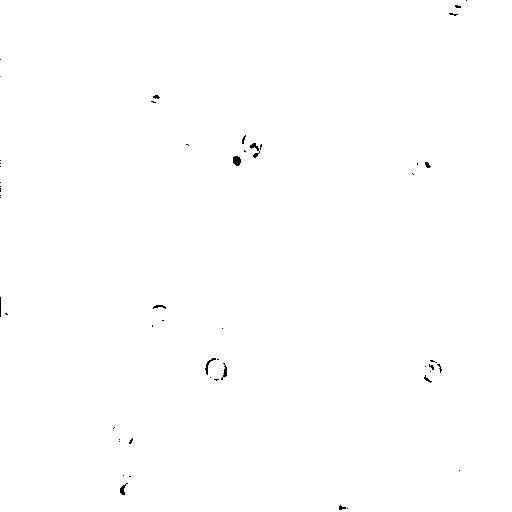micro-algae: (77, 14, 128, 63), (457, 445, 494, 495), (216, 139, 254, 180), (406, 143, 447, 181), (175, 123, 211, 158), (109, 418, 141, 452), (110, 474, 145, 505), (212, 421, 239, 455), (146, 303, 175, 331), (1, 295, 29, 323), (132, 385, 159, 413), (419, 357, 445, 385), (203, 354, 228, 381), (241, 129, 263, 159), (444, 1, 469, 17), (335, 500, 362, 511)
